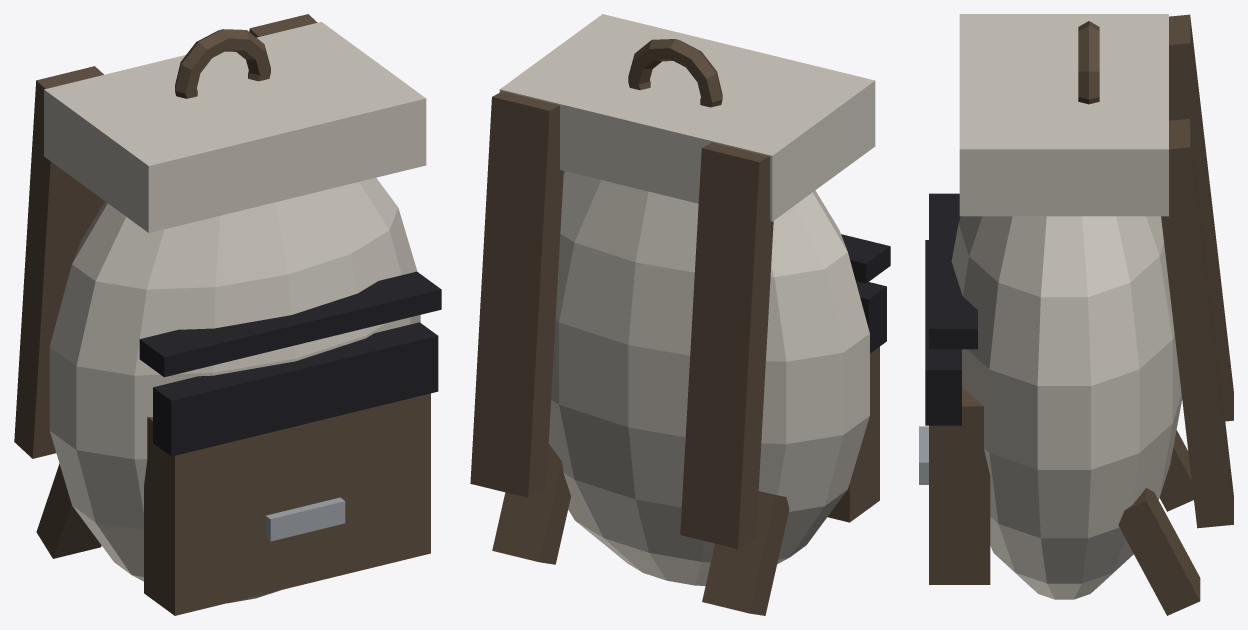
Rendered from backpack.glb.
3 views of the same model, side by side, from view 1: azimuth 30°, elevation 25°; view 2: azimuth 150°, elevation 25°; view 3: azimuth 270°, elevation 25° (orthographic).
Visible parts, largest first — view 1: backpack; view 2: backpack; view 3: backpack.
Part boxes in pixels (x1=…): backpack: x1=14, y1=14, x2=441, y2=615; backpack: x1=470, y1=14, x2=890, y2=615; backpack: x1=919, y1=14, x2=1233, y2=615.
Size of the model in its own units: 0.3226 by 0.501 by 0.2557.
